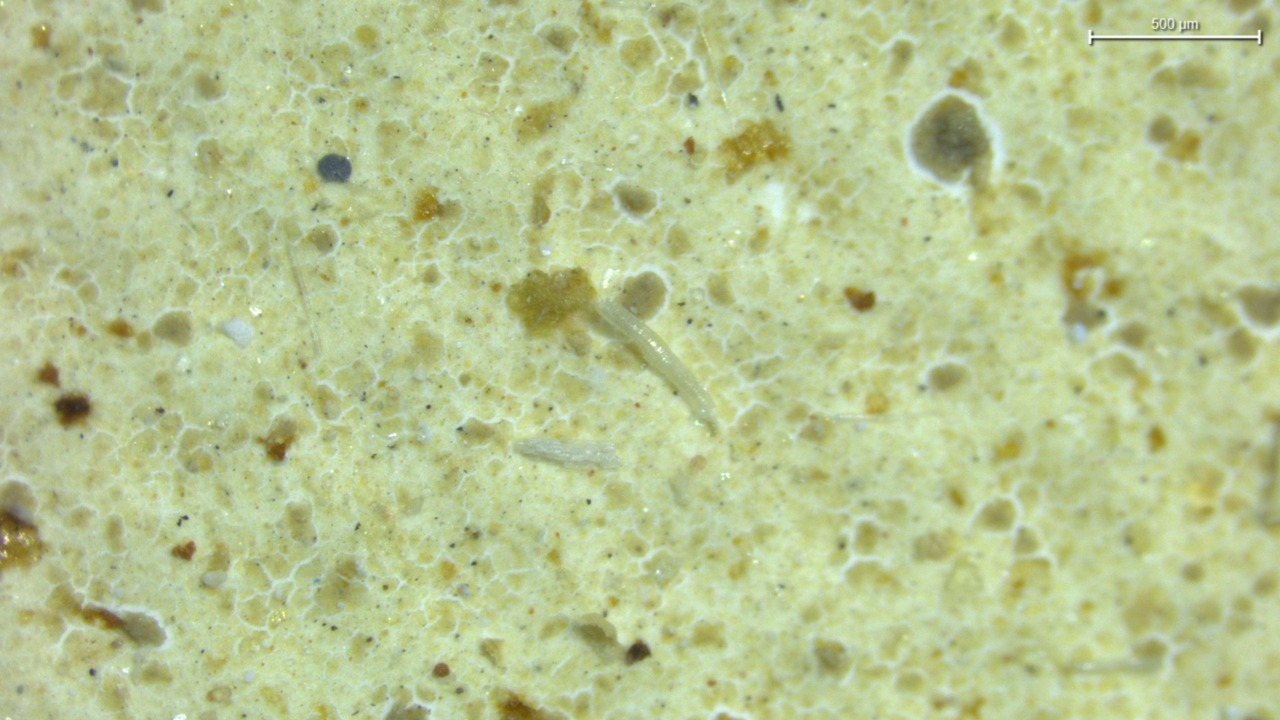microplastic_fragment: (513, 436, 620, 468), (220, 318, 255, 345)
